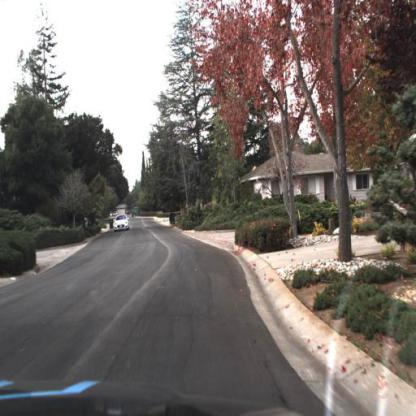car: (113, 213, 130, 231)
